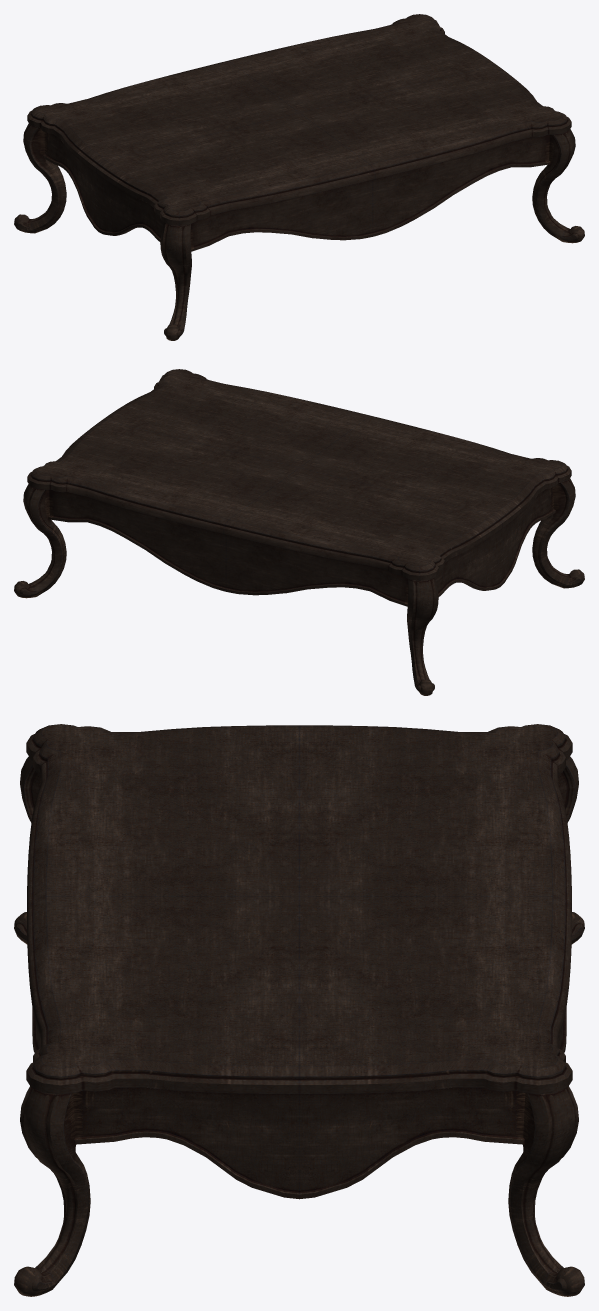
Rendered from victorian_table.glb.
3 views of the same model, one above another, from view 1: azimuth 30°, elevation 25°; view 2: azimuth 150°, elevation 25°; view 3: azimuth 270°, elevation 25° (orthographic). The views are drawn at different scales.
Parts seen in each view (by area): view 1: Circle, Circle.001, Cube.001; view 2: Circle, Circle.001, Cube.001; view 3: Circle, Circle.001, Cube.001.
Part boxes in pixels (bbox=[...]): Circle: bbox=[27, 14, 571, 225]; Circle.001: bbox=[43, 132, 550, 251]; Cube.001: bbox=[14, 123, 584, 340]; Circle: bbox=[27, 369, 571, 580]; Circle.001: bbox=[48, 487, 555, 606]; Cube.001: bbox=[14, 478, 584, 695]; Circle: bbox=[26, 724, 572, 1094]; Circle.001: bbox=[32, 1007, 566, 1199]; Cube.001: bbox=[14, 756, 584, 1296].
Size of the model in its own units: 179 by 50.88 by 118.
1 material, 1 textured.
